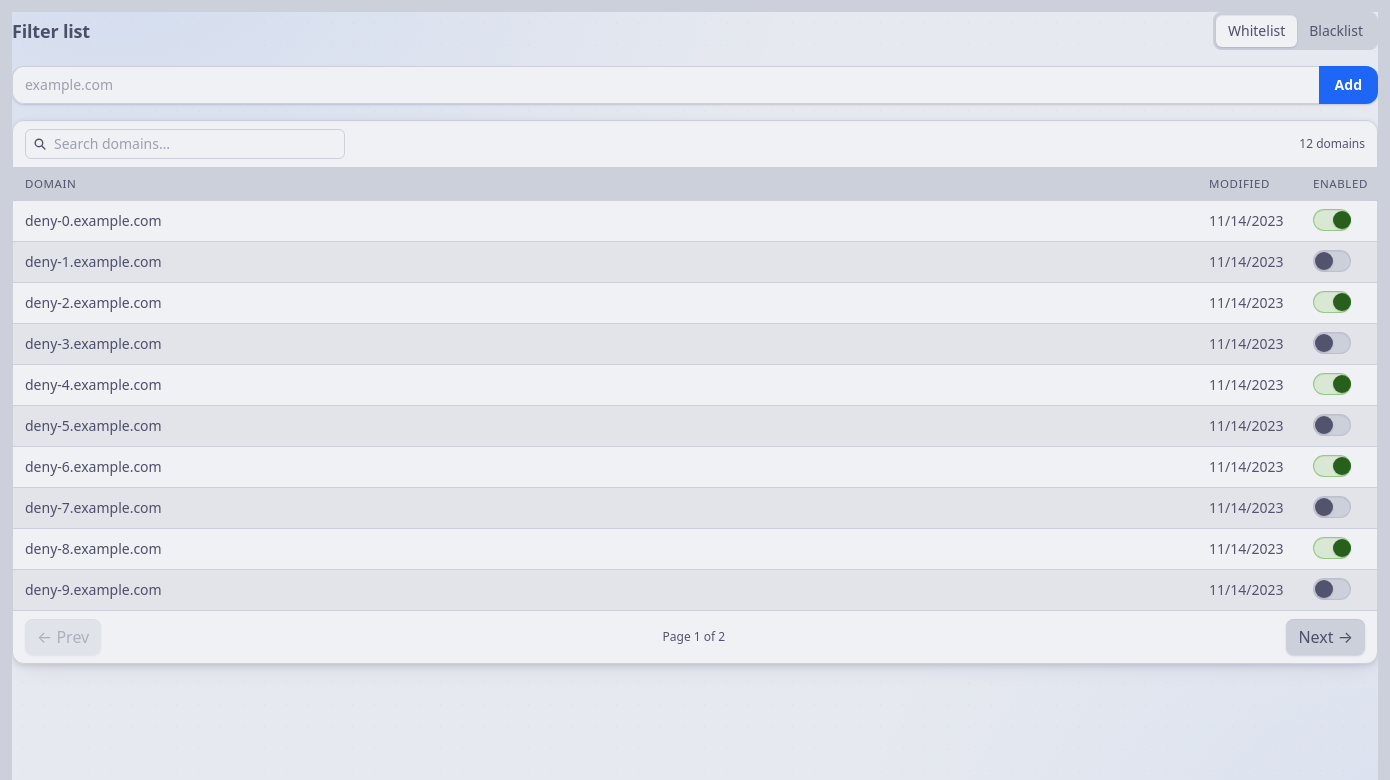
Test: Filterlist page › shows a warning toast when the domain already exists
Expected: the text "deny-0.example.com" is shown, [13,201,1197,242]
Type "dup.com" into the field named "Domain to add".
click(665, 85); type("dup.com")  # box [12,66,1319,104]
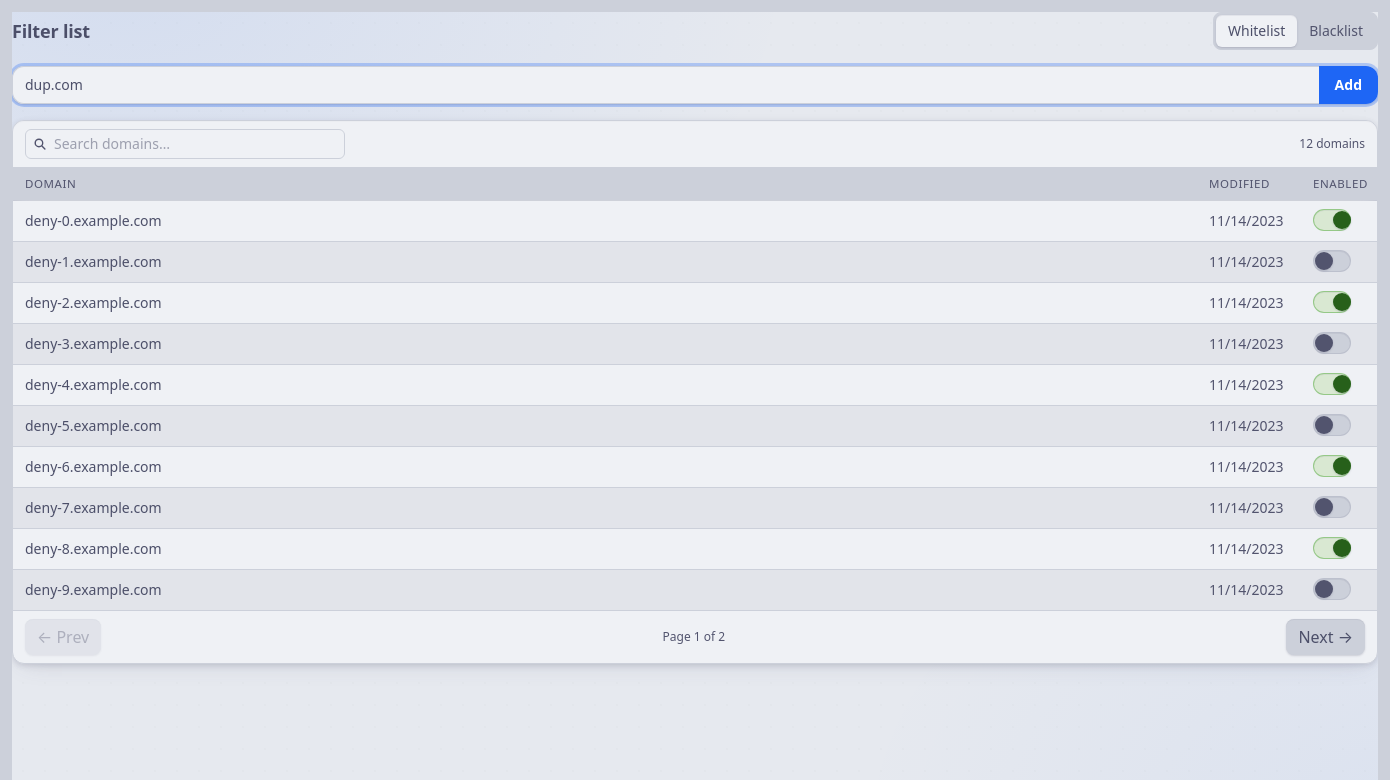
Click the button "Add".
click(1348, 85)  # box [1319,66,1378,104]
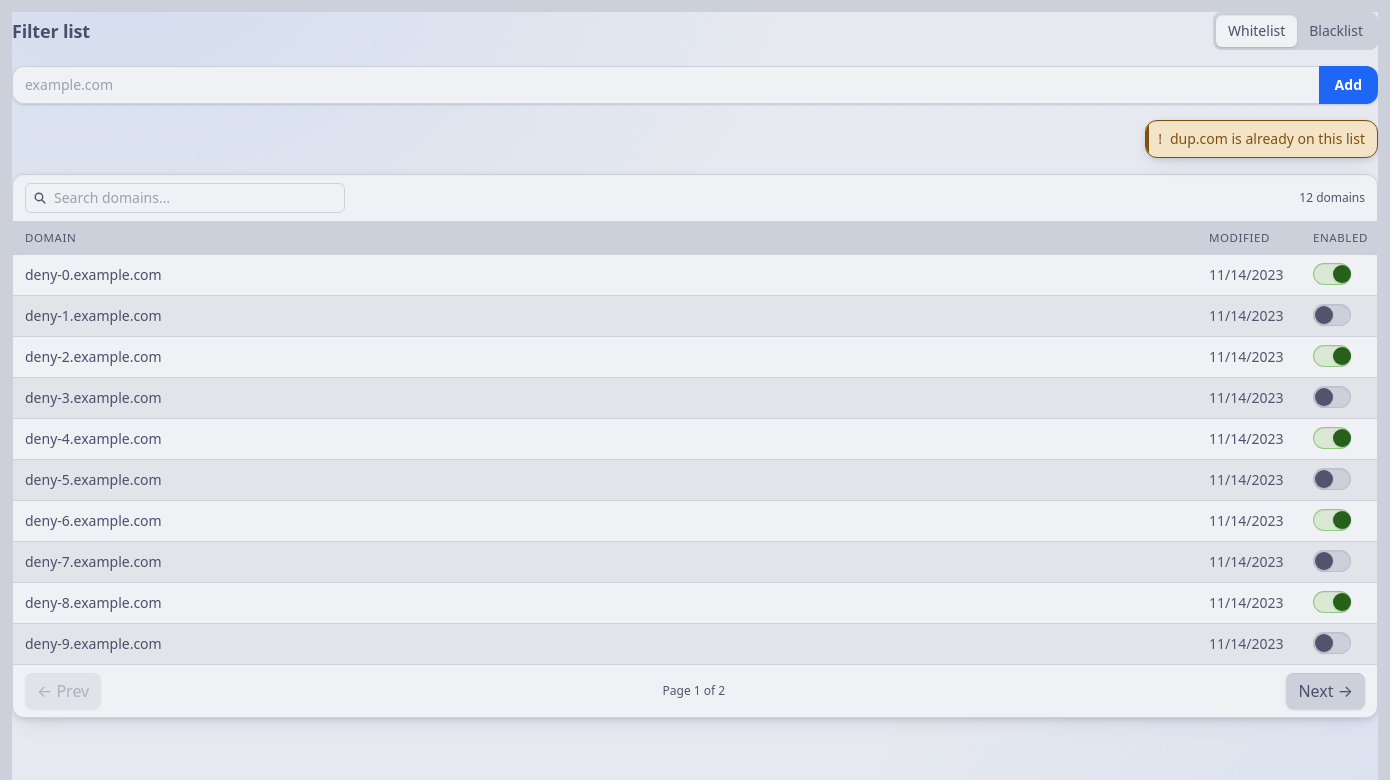
Now the text "dup.com is already on this list" is shown, box [1170,129,1365,148]
